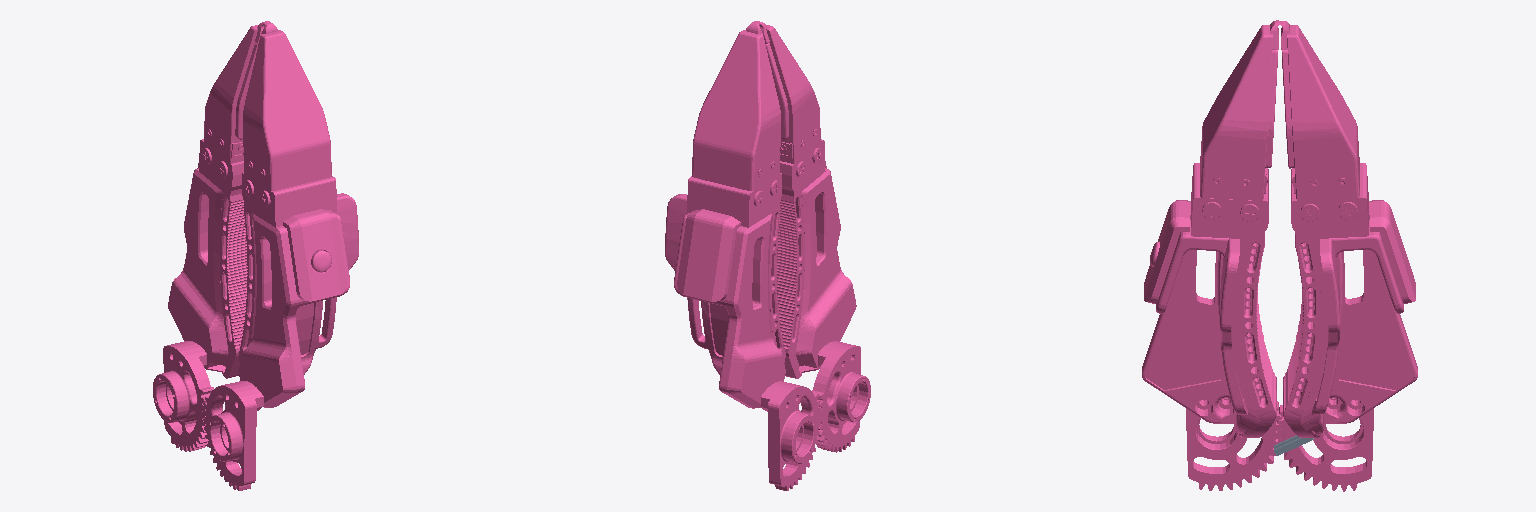
The robot description file, URDF, robot "taccap_g1_master_right":
<?xml version="1.0"?>
<robot name="taccap_g1_master_right">
  <!-- Root on the shell rear outer surface (centre on the tool axis), 23.5 mm above the higher fingertip holding plane; +Z tool axis, +Y left finger. All link frames share these axes; meshes keep their native CAD frame via visual origins (finger hinges along +X). EEF: centre of the closed fingertips' most distal face (mesh-derived, shared with the slave). -->
  <material name="right_shell">
    <color rgba="0.58 0.64 0.72 1" />
  </material>
  <material name="right_finger">
    <color rgba="0.96 0.45 0.71 1" />
  </material>
  <link name="right_base_link">
    <visual name="right_body_visual">
      <origin xyz="0.02065 0 0.024779" rpy="0 -1.5707963267948966 0" />
      <geometry>
        <mesh filename="../meshes/right/base_link.STL" />
      </geometry>
      <material name="right_shell" />
    </visual>
    <visual name="right_body_aux_visual">
      <origin xyz="0.03664997155194 0 0.189422038155223" rpy="0 -1.5707963267948966 0" />
      <geometry>
        <mesh filename="../meshes/right/link4.STL" />
      </geometry>
      <material name="right_shell" />
    </visual>
  </link>
  <link name="right_right_link">
    <visual>
      <origin xyz="0 0 0" rpy="0 -1.5707963267948966 0" />
      <geometry>
        <mesh filename="../meshes/right/link1.STL" />
      </geometry>
      <material name="right_finger" />
    </visual>
  </link>
  <joint name="right_right_joint" type="revolute">
    <origin xyz="0.01465 -0.019955 0.037" rpy="0 0 0" />
    <parent link="right_base_link" />
    <child link="right_right_link" />
    <axis xyz="1 0 0" />
    <limit lower="0" upper="0.5047492196767601" effort="1" velocity="1" />
  </joint>
  <link name="right_left_link">
    <visual>
      <origin xyz="0 0 0" rpy="0 -1.5707963267948966 0" />
      <geometry>
        <mesh filename="../meshes/right/link2.STL" />
      </geometry>
      <material name="right_finger" />
    </visual>
  </link>
  <joint name="right_left_joint" type="revolute">
    <origin xyz="0.01465 0.019945 0.037" rpy="0 0 0" />
    <parent link="right_base_link" />
    <child link="right_left_link" />
    <axis xyz="1 0 0" />
    <limit lower="-0.5047492196767601" upper="0" effort="1" velocity="1" />
    <mimic joint="right_right_joint" multiplier="-1" offset="0" />
  </joint>
  <link name="right_pico_link">
    <visual>
      <geometry>
        <mesh filename="../meshes/right/link3.STL" />
      </geometry>
      <material name="right_shell" />
    </visual>
  </link>
  <joint name="right_pico_joint" type="fixed">
    <origin xyz="-0.032782 0.024077 0.013155" rpy="0.33958373456889773 -0.8514219456851909 1.551281704353287" />
    <parent link="right_base_link" />
    <child link="right_pico_link" />
  </joint>
  <link name="right_eef_link" />
  <joint name="right_eef_joint" type="fixed">
    <origin xyz="0.036575 0 0.1894217" rpy="0 0 0" />
    <parent link="right_base_link" />
    <child link="right_eef_link" />
  </joint>
  <!-- Wrist camera: on the dome-window axis, 19.95 mm behind the window ring (same point as the
       slave camera). Same axes as the flange: +Z optical axis, +Y left finger. -->
  <link name="right_camera_link" />
  <joint name="right_camera_joint" type="fixed">
    <origin xyz="-0.02285 0 0.04975" rpy="0 0 0" />
    <parent link="right_base_link" />
    <child link="right_camera_link" />
  </joint>
  <!-- Optical frame (REP-103): +Z optical axis, +X image right, +Y image down toward the fingers. -->
  <link name="right_camera_optical_link" />
  <joint name="right_camera_optical_joint" type="fixed">
    <origin xyz="0 0 0" rpy="0 0 -1.5707963267948966" />
    <parent link="right_camera_link" />
    <child link="right_camera_optical_link" />
  </joint>
  <!-- Massless frame matching the follower (slave) taccap_base_link, i.e. the slave mounting
       face: 11.5 mm behind the master rear surface, same axes. Not a physical part. -->
  <link name="right_follower_link" />
  <joint name="right_follower_joint" type="fixed">
    <origin xyz="0 0 -0.0115" rpy="0 0 0" />
    <parent link="right_base_link" />
    <child link="right_follower_link" />
  </joint>
</robot>

--- Render facts (derived) ---
The picture shows the robot from 3 angles, left to right: view 1: azimuth 30°, elevation 25°; view 2: azimuth 150°, elevation 25°; view 3: azimuth 270°, elevation 25°; orthographic projection.
Model taccap_g1_master_right with 8 links and 7 joints (2 revolute, 5 fixed), rooted at right_base_link, posed all joints at 0.
Visible links, largest first — view 1: right_right_link, right_left_link; view 2: right_left_link, right_right_link; view 3: right_right_link, right_left_link.
Boxes of the visible links, x1,y1,x2,y2 form: right_right_link: (203, 22, 358, 490); right_left_link: (153, 21, 269, 451); right_left_link: (665, 22, 821, 490); right_right_link: (754, 21, 870, 452); right_right_link: (1142, 20, 1282, 490); right_left_link: (1277, 21, 1417, 491).
Size in the robot's own frame: 0.06 by 0.0873 by 0.1734 metres.
3 mesh visuals loaded from 5 distinct referenced files (3 binary STL); not drawn: 2 (reference not matched to a file when rendering).
